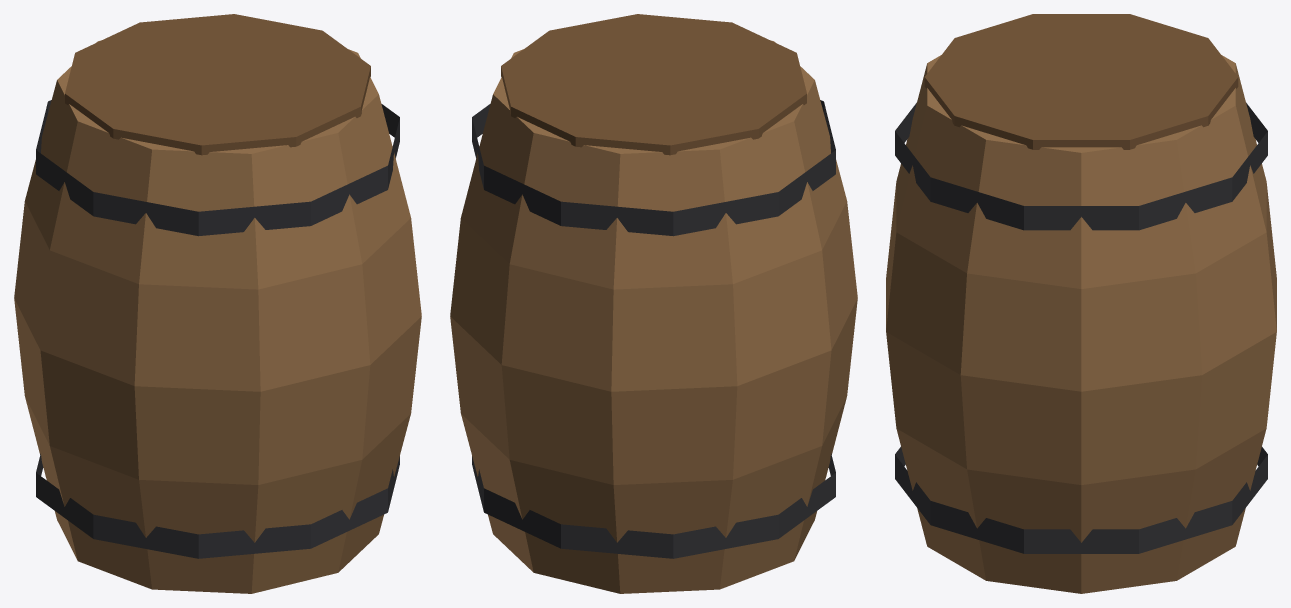
File: barrel.glb
The picture shows the model from 3 angles, left to right: view 1: azimuth 30°, elevation 25°; view 2: azimuth 150°, elevation 25°; view 3: azimuth 270°, elevation 25°; orthographic projection.
Parts seen in each view (by area): view 1: barrel; view 2: barrel; view 3: barrel.
Boxes of the visible parts, box(x1,y1,x2,y2) form: barrel: box(14, 14, 421, 593); barrel: box(450, 14, 857, 593); barrel: box(886, 14, 1276, 593).
Size of the model in its own units: 0.76 by 0.915 by 0.7228.
